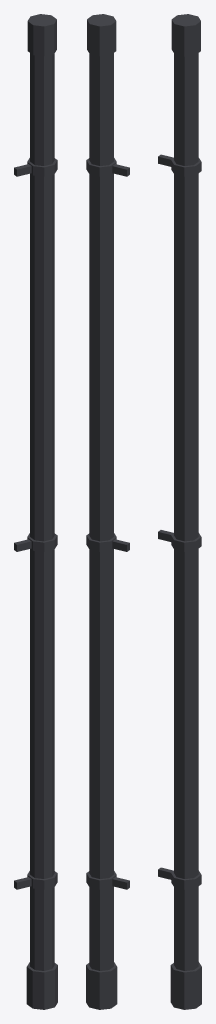
The model's file is SM_Fixture_DownpipeFoot_R_01.gltf.
3 views of the same model, side by side, from view 1: azimuth 30°, elevation 25°; view 2: azimuth 150°, elevation 25°; view 3: azimuth 330°, elevation 25° (orthographic).
Parts seen in each view (by area): view 1: SM_Fixture_DownpipeFoot_R_01; view 2: SM_Fixture_DownpipeFoot_R_01; view 3: SM_Fixture_DownpipeFoot_R_01.
Boxes of the visible parts, x1,y1,x2,y2 form: SM_Fixture_DownpipeFoot_R_01: (14, 14, 57, 1009); SM_Fixture_DownpipeFoot_R_01: (86, 14, 129, 1009); SM_Fixture_DownpipeFoot_R_01: (158, 14, 201, 1009).
Bounding box in the file's own units: 0.1101 × 2.62 × 0.0702.
Materials: 1 (1 with a texture image).
